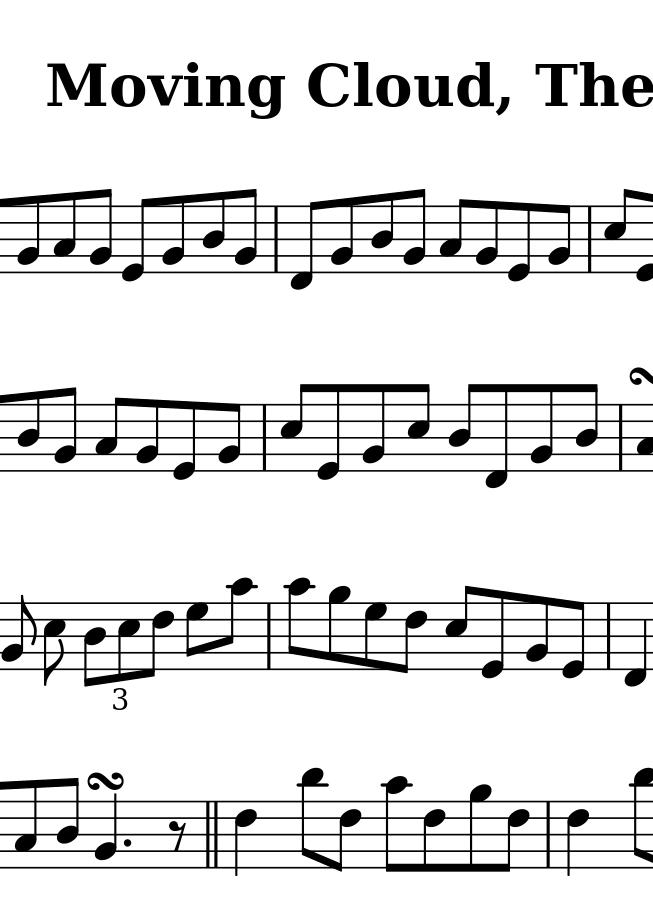3: (109, 684, 130, 715)
4_-1: (620, 601, 648, 690)
4_2: (94, 792, 119, 872)
4_6: (563, 800, 589, 877), (233, 799, 257, 878)
8_-1: (288, 200, 322, 292), (482, 383, 509, 492)
8_0: (117, 196, 154, 284), (315, 383, 343, 484), (480, 588, 507, 683), (170, 400, 200, 484), (506, 201, 535, 285), (560, 600, 587, 682)
8_10: (218, 578, 257, 672), (380, 774, 414, 874), (285, 576, 313, 673)
8_11: (298, 768, 327, 873)
8_2: (1, 594, 39, 673), (358, 382, 389, 474), (50, 386, 79, 474), (527, 382, 555, 473), (327, 197, 358, 276), (87, 188, 114, 276), (401, 187, 427, 276), (161, 193, 189, 273), (132, 399, 162, 473), (15, 194, 42, 276), (234, 187, 259, 275), (546, 201, 574, 277), (214, 401, 243, 474), (475, 200, 502, 277), (524, 594, 550, 673)
8_3: (92, 395, 126, 475), (15, 778, 42, 872), (437, 197, 468, 276), (51, 190, 79, 277), (115, 599, 141, 682)
8_4: (446, 381, 481, 474), (55, 775, 81, 871), (573, 382, 599, 475), (369, 191, 398, 273), (82, 599, 108, 690), (201, 190, 228, 277), (15, 389, 41, 476)
8_5: (278, 383, 311, 473), (603, 186, 634, 276), (445, 583, 476, 671), (405, 381, 433, 476), (145, 599, 175, 679), (42, 602, 67, 685)
8_6: (331, 799, 363, 877), (496, 800, 530, 872), (398, 600, 427, 677), (422, 800, 446, 874)
8_7: (361, 602, 388, 674), (184, 602, 209, 673)
8_9: (467, 782, 492, 875), (325, 585, 351, 673)
Double_barline: (200, 800, 226, 868)
Rests8: (168, 819, 188, 854)
Single_barline: (614, 404, 630, 470), (269, 204, 284, 274), (541, 801, 557, 866), (257, 404, 272, 471), (262, 603, 277, 667), (602, 606, 616, 668)
Turn: (84, 769, 128, 793)
dot: (122, 838, 132, 850)
